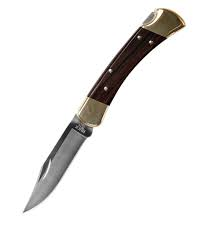knife: (20, 5, 187, 218)
